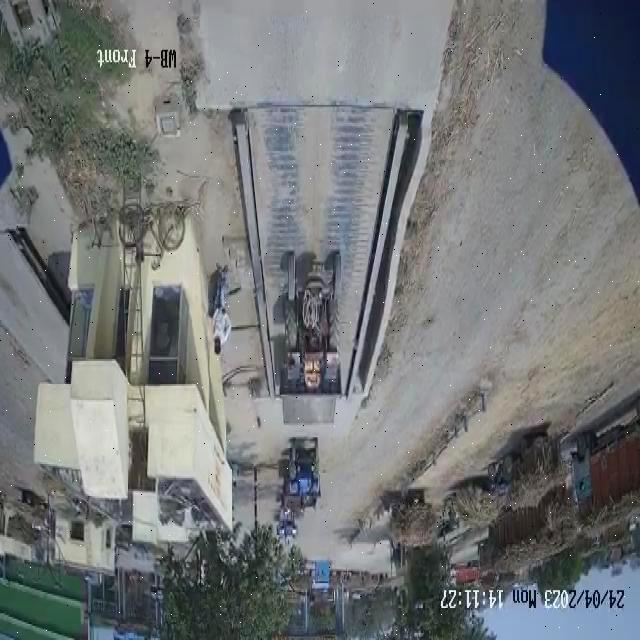Tratores - v5 YOLO V8L 2024-11-13: (280, 244, 348, 378), (285, 434, 323, 512), (486, 438, 516, 515)
